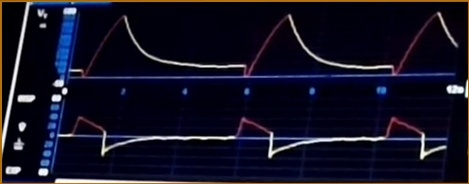Flow: (64, 107, 447, 170)
Leakage Volume: (73, 12, 458, 84)
